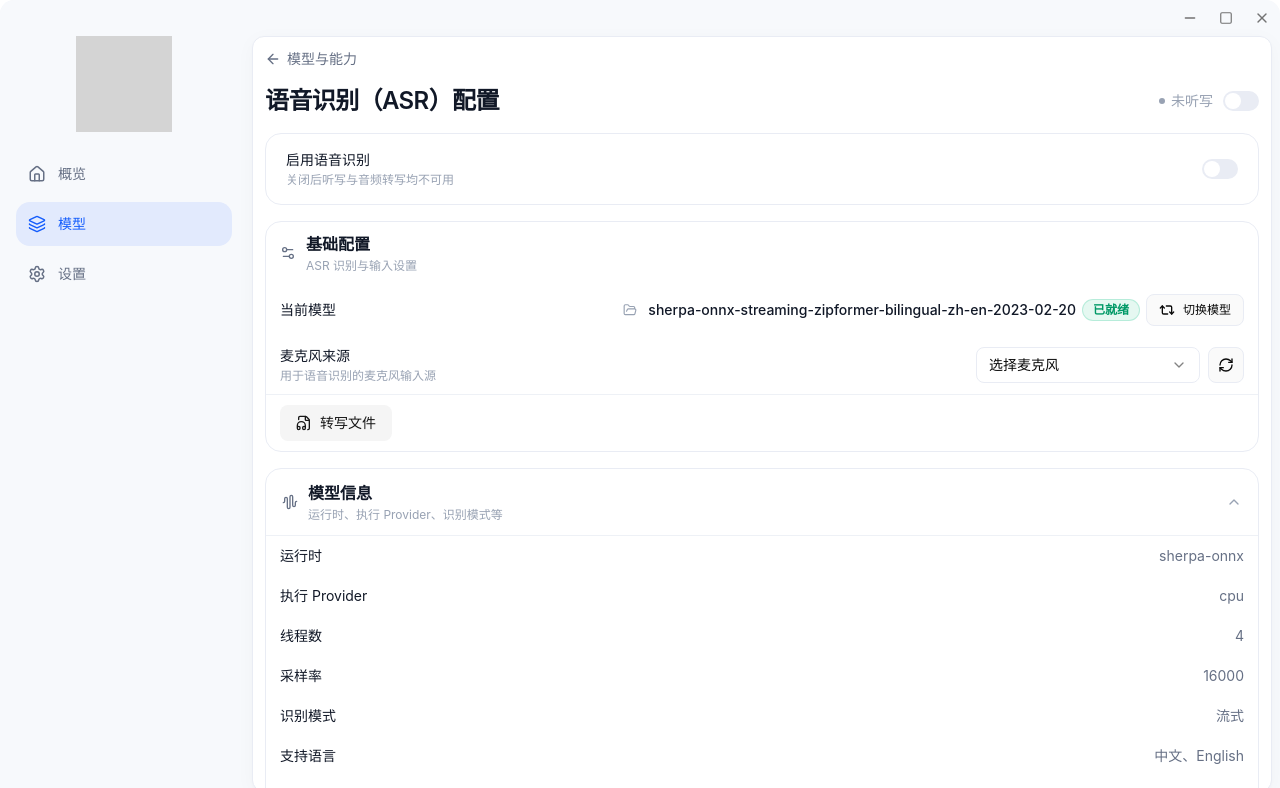
it: AsrPage（语音识别配置） › 转写弹窗打开后不自动转写（无示例音频路径），需先选择文件
Check: the heading "语音识别（ASR）配置" is shown, box [265,85,499,117]
Step 1. Click the button "转写文件" → (336, 423), box [280,405,392,441]
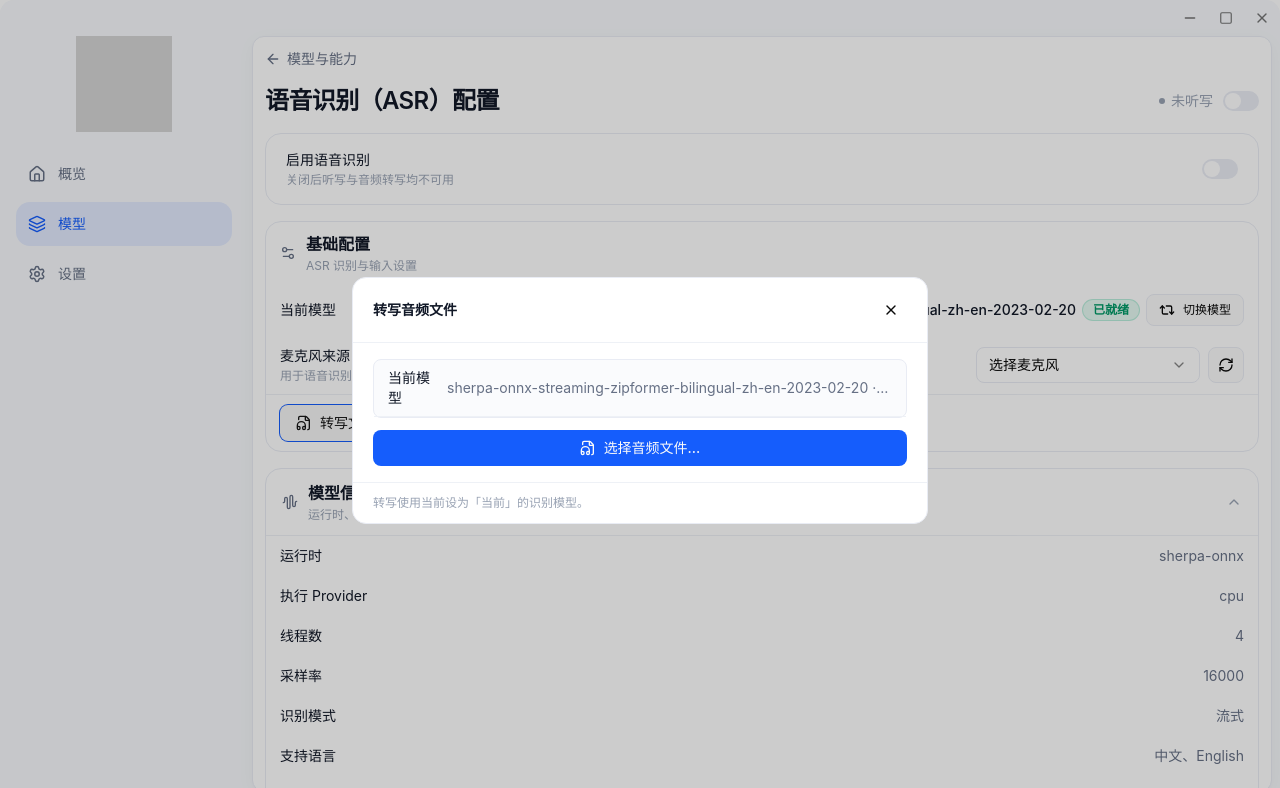
Check: the heading "转写音频文件" is shown, box [373,300,457,320]
Check: the button "选择音频文件…" is enabled, box [373,430,907,466]
